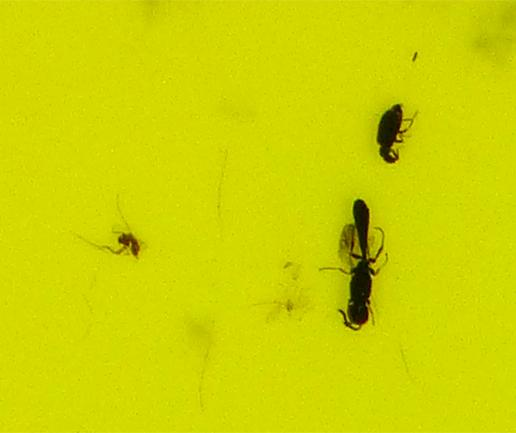Coleoptera: (373, 100, 416, 166)
Hymenoptera: (336, 196, 385, 333)
Nematocera: (100, 229, 145, 260)
